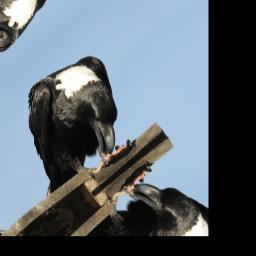Crow: (0, 37, 155, 211)
